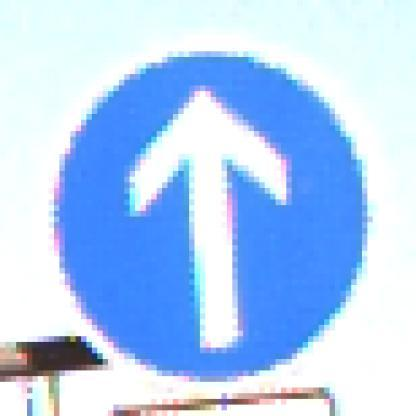straight: (32, 40, 378, 382)
